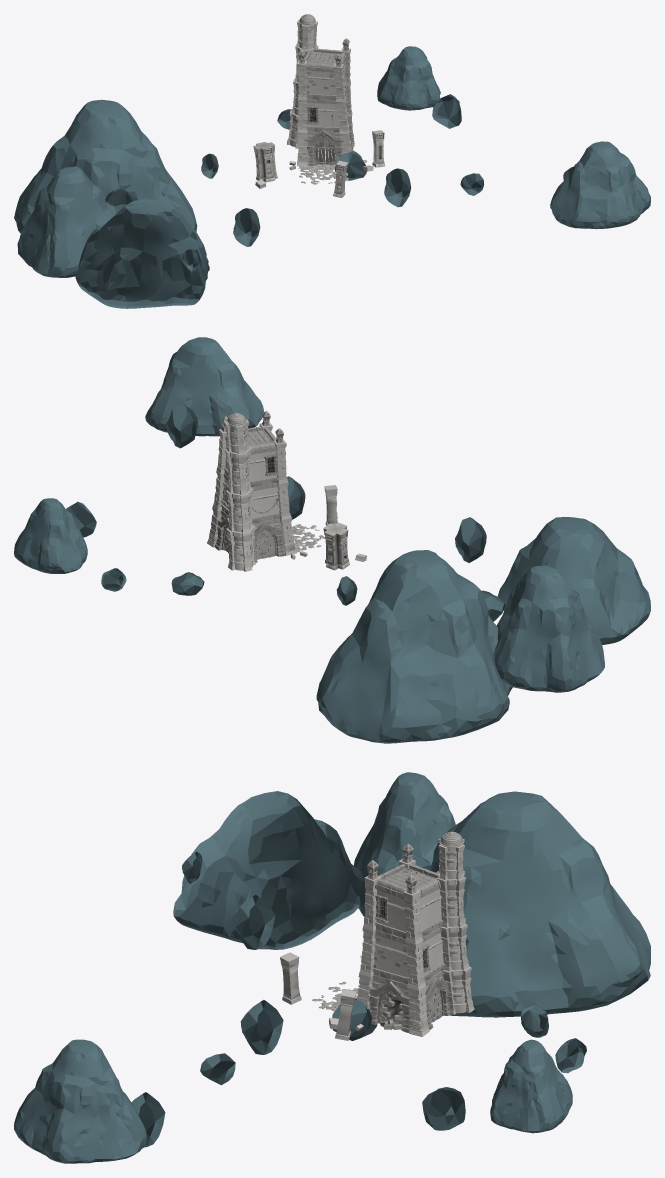
The model's file is m_castle.fbx.
3 renders of one model, top to bottom at view 1: azimuth 30°, elevation 25°; view 2: azimuth 150°, elevation 25°; view 3: azimuth 270°, elevation 25°, orthographic. The views are drawn at different scales.
Parts seen in each view (by area): view 1: ruins; view 2: ruins; view 3: ruins.
Part boxes in pixels (x1,y1,x2,y2): ruins: (14,14,650,308); ruins: (14,337,650,743); ruins: (14,772,650,1163).
Bounding box in the file's own units: 164 × 60.88 × 130.
